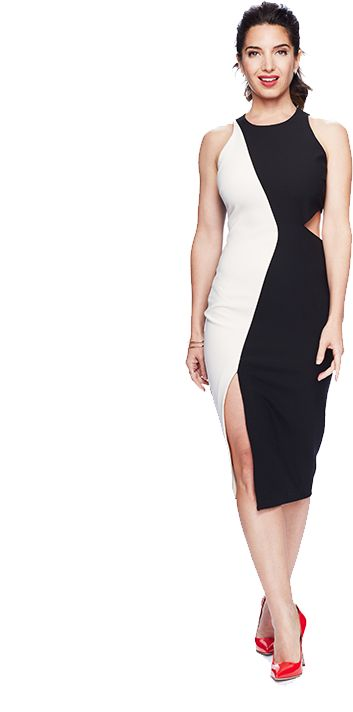person: (176, 2, 350, 686)
